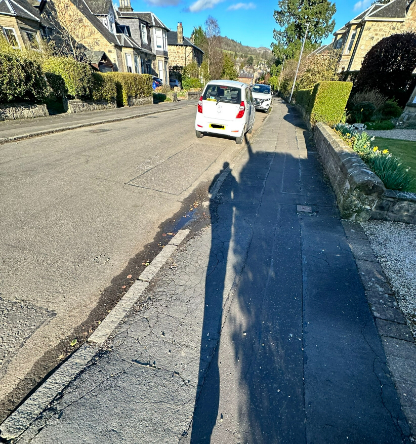car: (188, 83, 255, 139), (249, 80, 284, 107)
tree: (261, 0, 344, 48)
